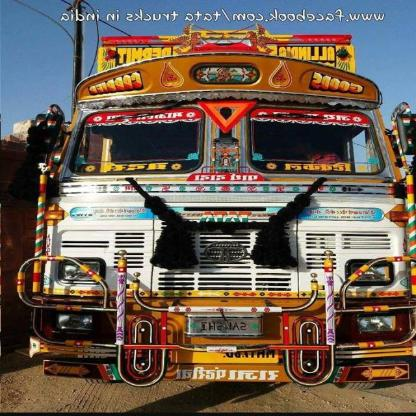truck: (18, 35, 413, 396)
